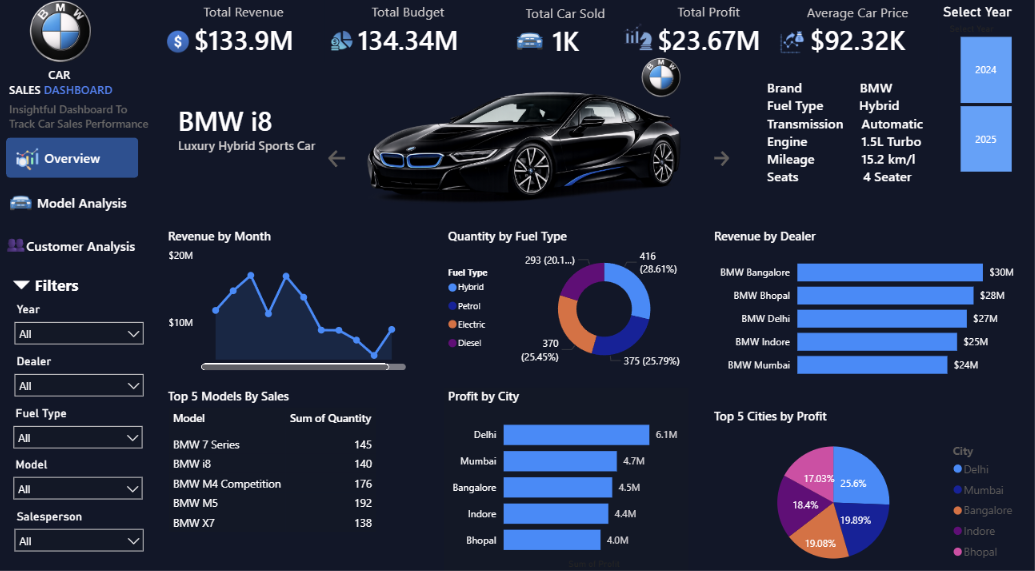

Layout of this report page (visuals, bound fields, positions):
{"tool":"powerbi","page":{"name":"Overview","canvas":[1280,720],"ordinal":0},"visuals":[{"type":"image","box":[32.5,0,96.2,100],"z":0},{"type":"textbox","box":[0,90.6,163.3,59],"z":1000},{"type":"cardVisual","fields":{"Data":["BMW_Car_Sales.Average Car Price"]},"box":[957.8,0,197.6,91.9],"z":2000},{"type":"cardVisual","fields":{"Data":["BMW_Car_Sales.Total Profit"]},"box":[779.4,0,190.7,90.6],"z":3000},{"type":"cardVisual","fields":{"Data":["BMW_Car_Sales.Total Car Sold"]},"box":[607.9,1.4,182.5,90.6],"z":4000},{"type":"cardVisual","fields":{"Data":["BMW_Car_Sales.Total Budget"]},"box":[404.8,0,203.1,90.6],"z":5000},{"type":"cardVisual","fields":{"Data":["BMW_Car_Sales.Total Revenue"]},"box":[207.2,0,197.6,90.6],"z":6000},{"type":"image","box":[357.4,57.8,544.2,286.2],"z":7000},{"type":"textbox","box":[220,130,185,100],"z":8000},{"type":"textbox","box":[940,100.2,215.4,216.8],"z":9000},{"type":"lineChart","title":" Revenue by Month","fields":{"Category":["BMW_Car_Sales.Date.Variation.Date Hierarchy.Month"],"Y":["BMW_Car_Sales.Total Revenue"]},"box":[207.9,287.4,300.8,179.8],"z":10000},{"type":"donutChart","title":" Quantity by Fuel Type","fields":{"Category":["BMW_Car_Sales.Fuel Type"],"Y":["Sum(BMW_Car_Sales.Quantity)"]},"box":[550.3,286.8,325.2,179.8],"z":11000},{"type":"clusteredBarChart","title":"Revenue by Dealer","fields":{"Category":["BMW_Car_Sales.Dealer"],"Y":["Sum(BMW_Car_Sales.Revenue)"]},"box":[875.5,286.8,384.2,196.2],"z":12000},{"type":"tableEx","title":"Top 5 Models By Sales","fields":{"Values":["BMW_Car_Sales.Model","Sum(BMW_Car_Sales.Quantity)"]},"box":[207.9,483,300.8,237.2],"z":13000},{"type":"clusteredBarChart","title":"Profit by City","fields":{"Category":["BMW_Car_Sales.City"],"Y":["Sum(BMW_Car_Sales.Profit)"]},"box":[550.3,483,299.6,227.4],"z":14000},{"type":"pieChart","title":"Top 5 Cities by Profit","fields":{"Y":["Sum(BMW_Car_Sales.Profit)"],"Category":["BMW_Car_Sales.City"]},"box":[875.5,507.5,384,212.8],"z":15000},{"type":"image","box":[768.8,75,92.5,61.2],"z":16000},{"type":"textbox","box":[13.7,129,299.1,48],"z":17000},{"type":"slicer","title":"Select Year","fields":{"Values":["BMW_Car_Sales.Year"]},"box":[1155.4,13.7,112.5,212.7],"z":18000},{"type":"slicer","title":"Ye","fields":{"Values":["BMW_Car_Sales.Year"]},"box":[15.1,374.6,178.4,63.1],"z":19000},{"type":"slicer","title":"Ye","fields":{"Values":["BMW_Car_Sales.Dealer"]},"box":[15.1,437.7,178.4,63.1],"z":20000},{"type":"slicer","title":"Ye","fields":{"Values":["BMW_Car_Sales.Fuel Type"]},"box":[13.7,500.9,178.4,63.1],"z":21000},{"type":"slicer","title":"Ye","fields":{"Values":["BMW_Car_Sales.Model"]},"box":[13.7,564,178.4,63.1],"z":22000},{"type":"slicer","title":"Ye","fields":{"Values":["BMW_Car_Sales.Salesperson"]},"box":[15.1,627.1,178.4,63.1],"z":23000},{"type":"textbox","box":[40,340,193.8,41.2],"z":24000},{"type":"textbox","box":[0,85.1,163.3,123.5],"z":25000},{"type":"actionButton","box":[15.1,177,161.9,49.4],"z":26000},{"type":"actionButton","box":[18.8,283.8,175,50],"z":27000},{"type":"actionButton","box":[27.4,231.3,160.9,50.1],"z":28000},{"type":"actionButton","box":[875.2,189.6,49.9,27.1],"z":29000},{"type":"actionButton","box":[404.8,188.2,62.7,29.9],"z":30000},{"type":"image","box":[741.4,35.8,93,38.1],"z":31000},{"type":"image","box":[929.8,46.5,93,28.6],"z":32000},{"type":"image","box":[393.4,44.1,63.2,29.8],"z":33000},{"type":"image","box":[176.4,46.5,97.7,27.4],"z":34000},{"type":"image","box":[598.4,44.1,114.4,31],"z":35000},{"type":"image","box":[0,189.5,81.1,28.6],"z":36000},{"type":"image","box":[19.1,243.2,26.2,27.4],"z":37000},{"type":"textbox","box":[7.3,286.4,113.6,48.2],"z":38000},{"type":"textbox","box":[13.8,326.2,73.8,80],"z":39000}]}

Visuals, with their boxes in screenshot pixels (x1, y1, x2, y2), scaled from the page's 1280x720 canvas onto the 1035x571 screenshot:
image: detection(26, 0, 104, 79)
textbox: detection(0, 72, 132, 119)
cardVisual - BMW_Car_Sales.Average Car Price: detection(774, 0, 934, 73)
cardVisual - BMW_Car_Sales.Total Profit: detection(630, 0, 784, 72)
cardVisual - BMW_Car_Sales.Total Car Sold: detection(492, 1, 639, 73)
cardVisual - BMW_Car_Sales.Total Budget: detection(327, 0, 492, 72)
cardVisual - BMW_Car_Sales.Total Revenue: detection(168, 0, 327, 72)
image: detection(289, 46, 729, 273)
textbox: detection(178, 103, 327, 182)
textbox: detection(760, 79, 934, 251)
" Revenue by Month" lineChart: detection(168, 228, 411, 371)
" Quantity by Fuel Type" donutChart: detection(445, 227, 708, 370)
"Revenue by Dealer" clusteredBarChart: detection(708, 227, 1019, 383)
"Top 5 Models By Sales" tableEx: detection(168, 383, 411, 570)
"Profit by City" clusteredBarChart: detection(445, 383, 687, 563)
"Top 5 Cities by Profit" pieChart: detection(708, 402, 1018, 570)
image: detection(622, 59, 696, 108)
textbox: detection(11, 102, 253, 140)
"Select Year" slicer: detection(934, 11, 1025, 180)
"Ye" slicer: detection(12, 297, 156, 347)
"Ye" slicer: detection(12, 347, 156, 397)
"Ye" slicer: detection(11, 397, 155, 447)
"Ye" slicer: detection(11, 447, 155, 497)
"Ye" slicer: detection(12, 497, 156, 547)
textbox: detection(32, 270, 189, 302)
textbox: detection(0, 67, 132, 165)
actionButton: detection(12, 140, 143, 180)
actionButton: detection(15, 225, 157, 265)
actionButton: detection(22, 183, 152, 223)
actionButton: detection(708, 150, 748, 172)
actionButton: detection(327, 149, 378, 173)
image: detection(599, 28, 675, 59)
image: detection(752, 37, 827, 60)
image: detection(318, 35, 369, 59)
image: detection(143, 37, 222, 59)
image: detection(484, 35, 576, 60)
image: detection(0, 150, 66, 173)
image: detection(15, 193, 37, 215)
textbox: detection(6, 227, 98, 265)
textbox: detection(11, 259, 71, 322)
